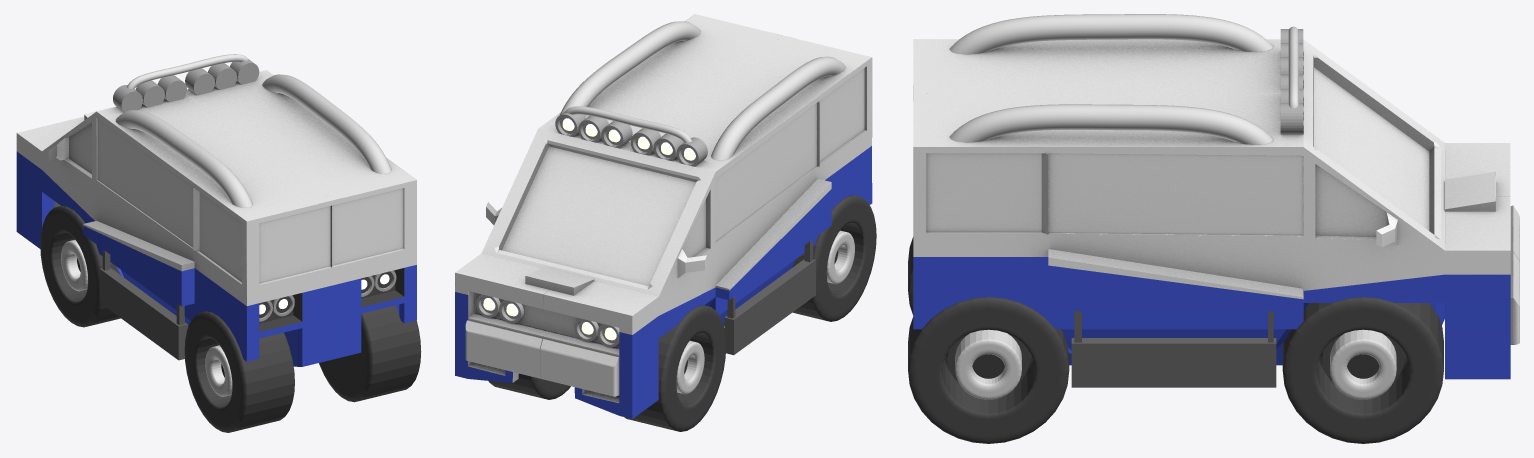
Rendered from carModel.glb.
3 renders of one model, left to right at view 1: azimuth 30°, elevation 25°; view 2: azimuth 150°, elevation 25°; view 3: azimuth 270°, elevation 25°, orthographic. The views are drawn at different scales.
Parts seen in each view (by area): view 1: carBody, wheel, carTop, carSide, carLights.001, Curve, carLightsBack; view 2: carBody, wheel, carTop, carSide, carLights.001, carLights, Curve; view 3: carBody, wheel, carTop, carSide, carLights.001, Curve.
Part boxes in pixels (box(x1,y1,x2,y2)): carBody: box(16, 70, 416, 366); wheel: box(40, 205, 421, 432); carTop: box(115, 74, 391, 207); carSide: box(100, 249, 187, 360); carLights.001: box(113, 59, 259, 112); Curve: box(126, 54, 247, 89); carLightsBack: box(259, 270, 396, 321); carBody: box(455, 14, 872, 418); wheel: box(488, 195, 876, 431); carTop: box(560, 21, 845, 160); carSide: box(724, 239, 815, 355); carLights.001: box(555, 111, 707, 166); carLights: box(476, 294, 619, 347); Curve: box(565, 106, 691, 147); carBody: box(913, 39, 1519, 379); wheel: box(908, 237, 1443, 443); carTop: box(949, 14, 1272, 144); carSide: box(1071, 311, 1276, 387); carLights.001: box(1280, 29, 1303, 134); Curve: box(1288, 26, 1298, 108).
Bounding box in the file's own units: 2.47 × 2.89 × 4.8.
11 materials, 2 textured.
